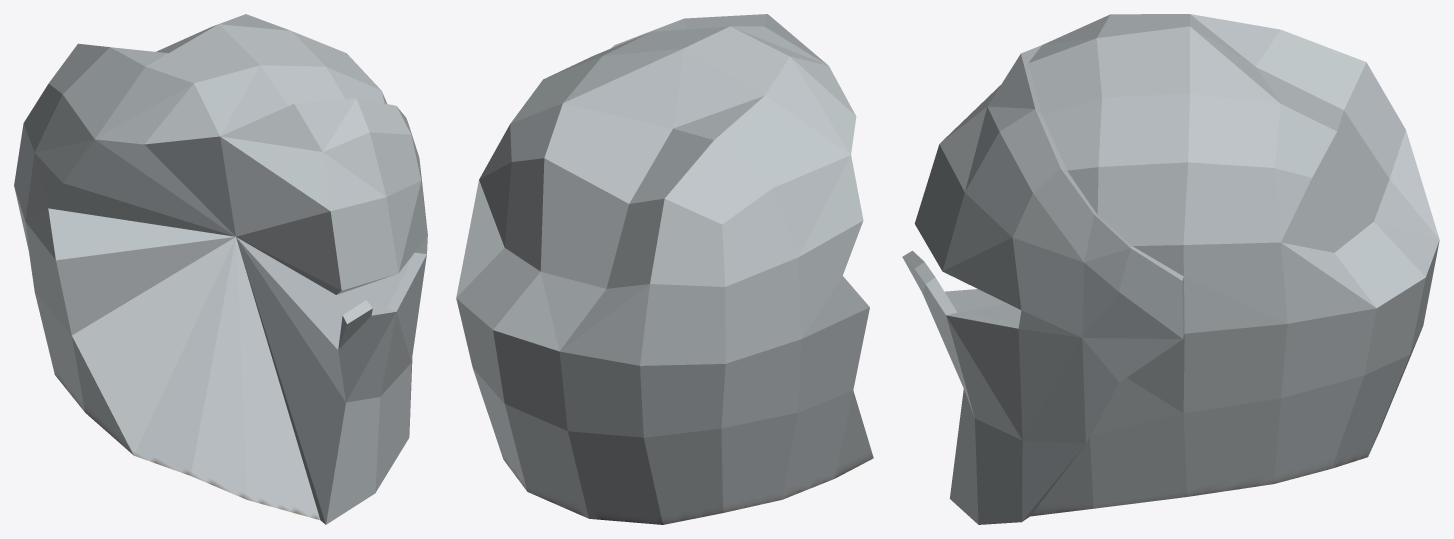
The model's file is SM_Damaged_Helmet_B.fbx.
The picture shows the model from 3 angles, left to right: view 1: azimuth 30°, elevation 25°; view 2: azimuth 150°, elevation 25°; view 3: azimuth 270°, elevation 25°; orthographic projection. The views are drawn at different scales.
Parts seen in each view (by area): view 1: Damaged_Helmet_B; view 2: Damaged_Helmet_B; view 3: Damaged_Helmet_B.
Part boxes in pixels (x1=…): Damaged_Helmet_B: x1=14, y1=14, x2=427, y2=524; Damaged_Helmet_B: x1=456, y1=14, x2=873, y2=524; Damaged_Helmet_B: x1=902, y1=14, x2=1439, y2=524.
Bounding box in the file's own units: 36.4 × 43.17 × 44.5.
Materials: 1 (1 with a texture image).
